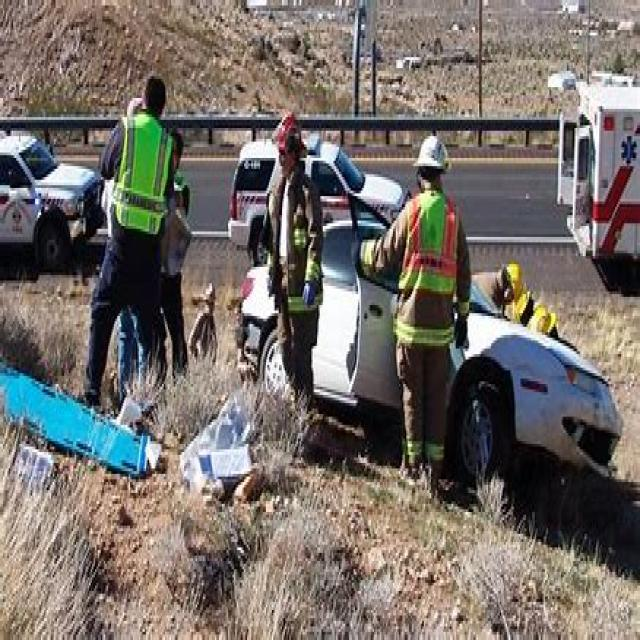Accident: (49, 58, 640, 504)
